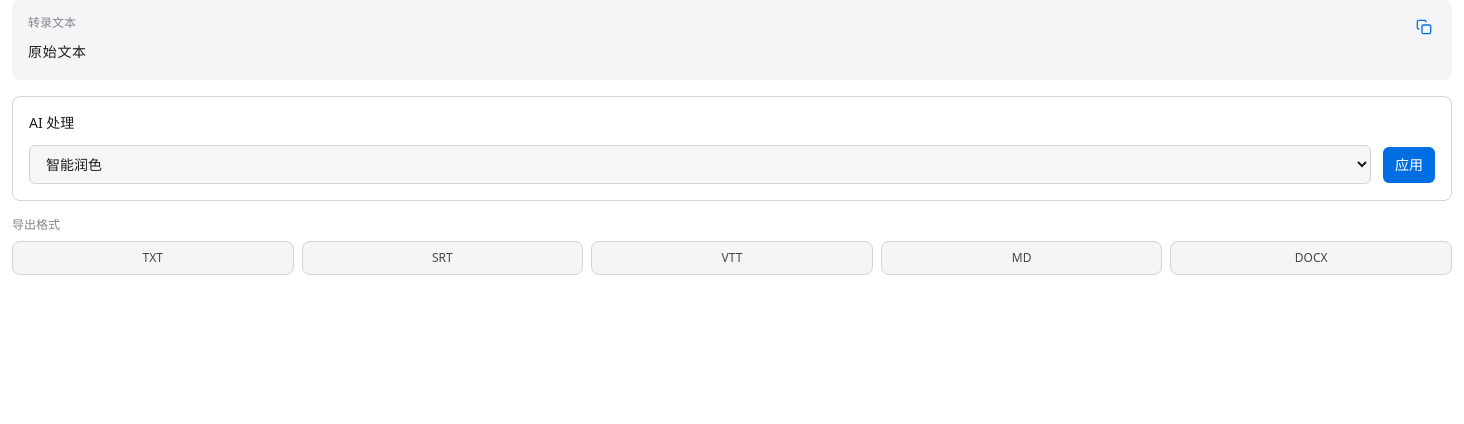
Test case: TranscriptionResult — polish write-back failure (#314) › warns the user when the write-back rejects, keeping the polished text
// Drive the manual optimize flow (ProcessingPanel renders after modes load).
Click the button with aria-label "应用 AI 处理" at x=1409, y=165, box [1383,147,1435,183]
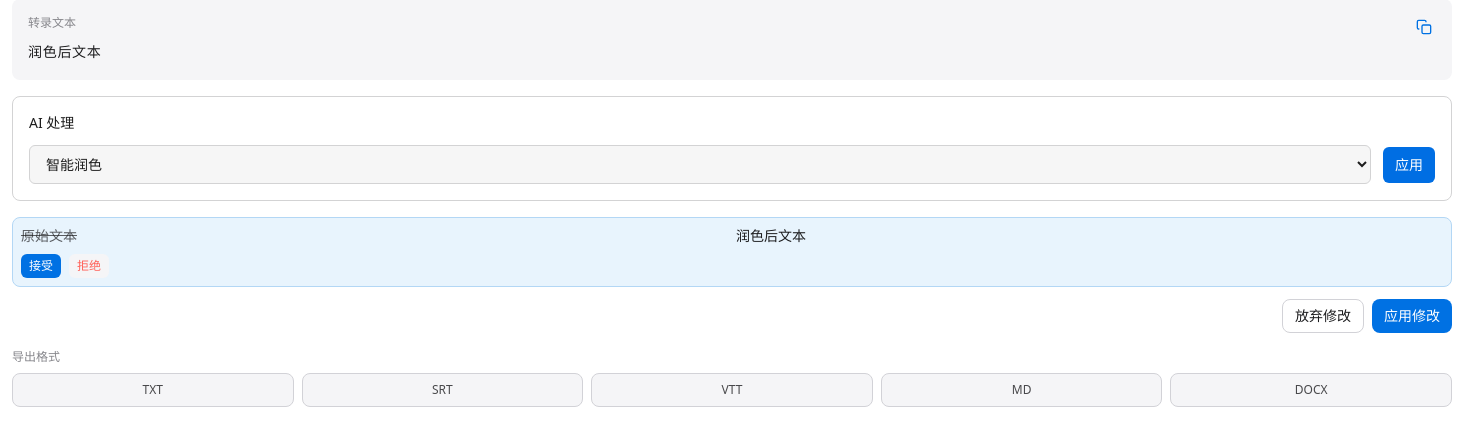
Expected: the text "润色后文本" below "转录文本" is shown, [28,42,102,61]
